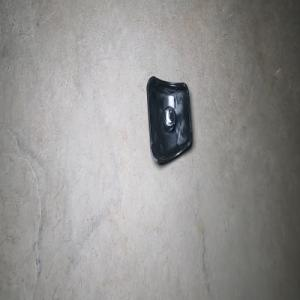LuggagePart: (145, 74, 193, 166)
